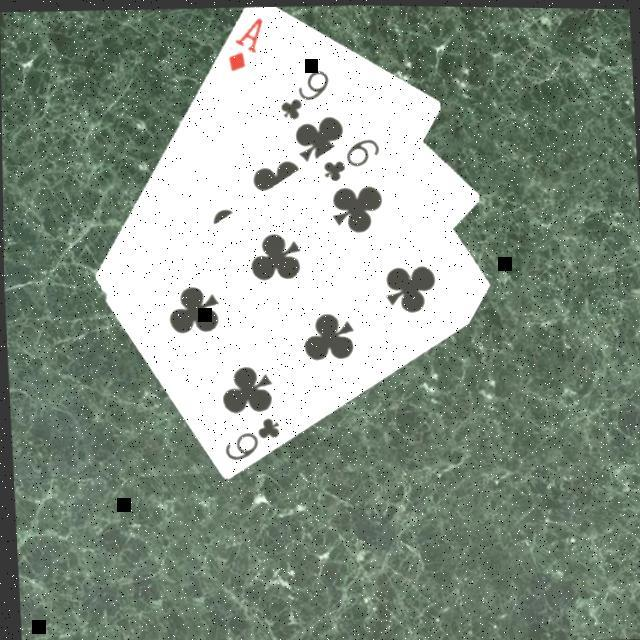6C: (317, 132, 386, 185), (218, 412, 284, 464)
9C: (274, 63, 335, 124)
AD: (222, 12, 270, 75)
